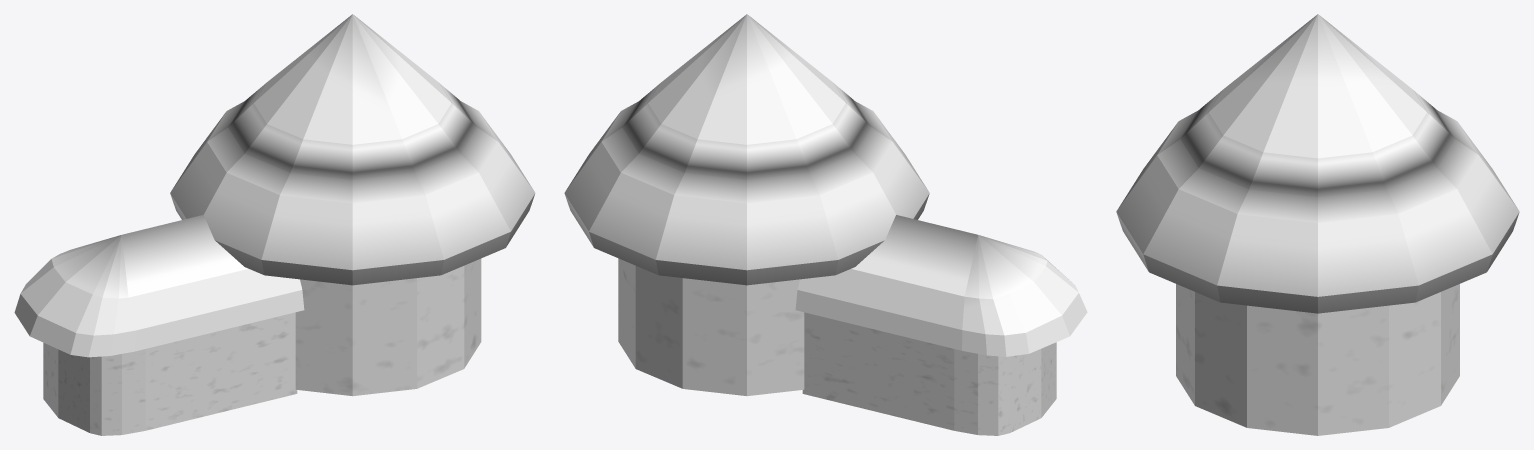
File: HutB.fbx
3 views of the same model, side by side, from view 1: azimuth 30°, elevation 25°; view 2: azimuth 150°, elevation 25°; view 3: azimuth 270°, elevation 25° (orthographic). The views are drawn at different scales.
Parts seen in each view (by area): view 1: HutB; view 2: HutB; view 3: HutB.
Part boxes in pixels (box(x1,y1,x2,y2)): HutB: box(14, 14, 535, 435); HutB: box(564, 14, 1087, 435); HutB: box(1116, 14, 1519, 435).
Size of the model in its own units: 1886 by 1244 by 1240.
